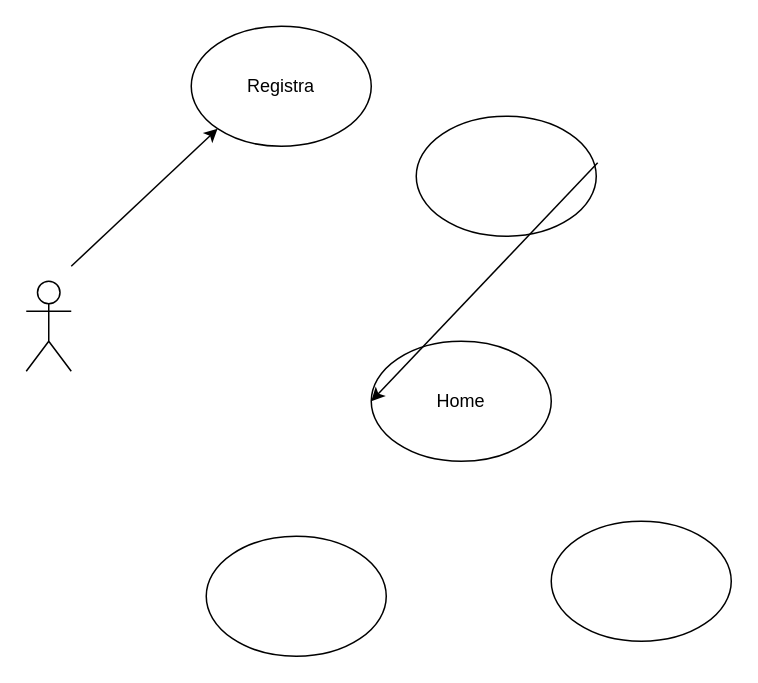
This 758x683 diagram has some shape labels left out. Here are the shapes that lost their labels. From the top down, the centre of each, then its label:
At [505,175]: "Logea".
At [48,325]: "Actor".
